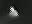person: (9, 6, 20, 21)
